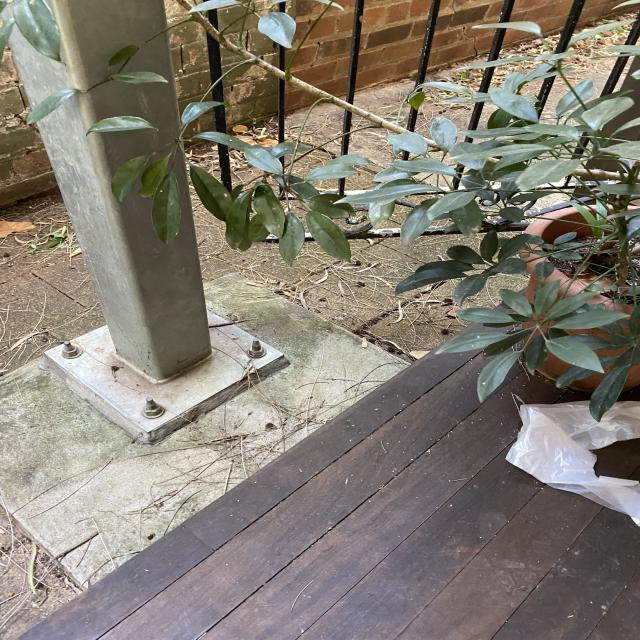bag: (505, 400, 640, 526)
